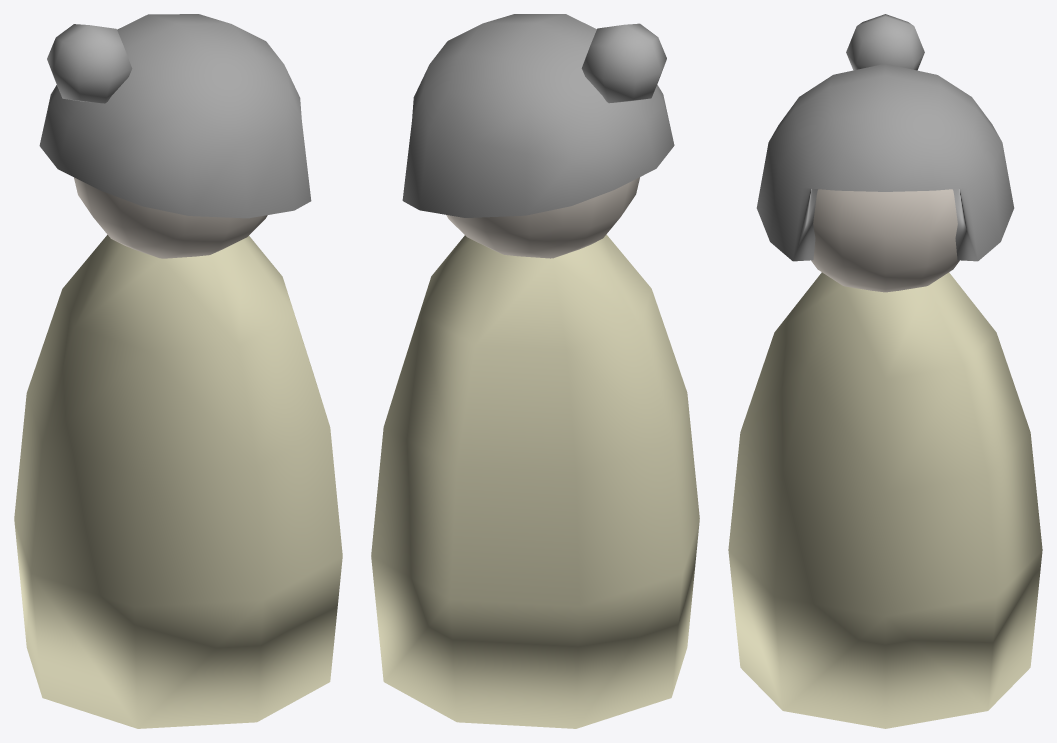
File: Woman_B.fbx
The picture shows the model from 3 angles, left to right: view 1: azimuth 30°, elevation 25°; view 2: azimuth 150°, elevation 25°; view 3: azimuth 270°, elevation 25°; orthographic projection. The views are drawn at different scales.
Visible parts, largest first — view 1: polySurface3; view 2: polySurface3; view 3: polySurface3.
Part boxes in pixels (x1,y1,x2,y2): polySurface3: (14, 14, 342, 728); polySurface3: (371, 14, 699, 728); polySurface3: (728, 14, 1042, 728).
Size of the model in its own units: 0.35 by 0.7509 by 0.35.
